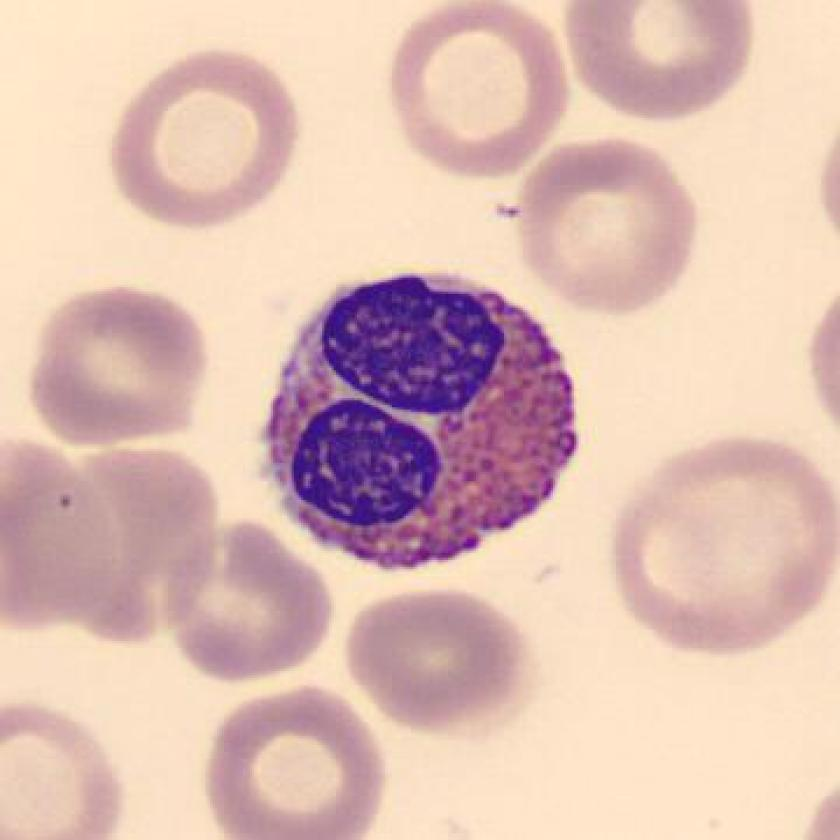eosinophil: (248, 258, 594, 584)
